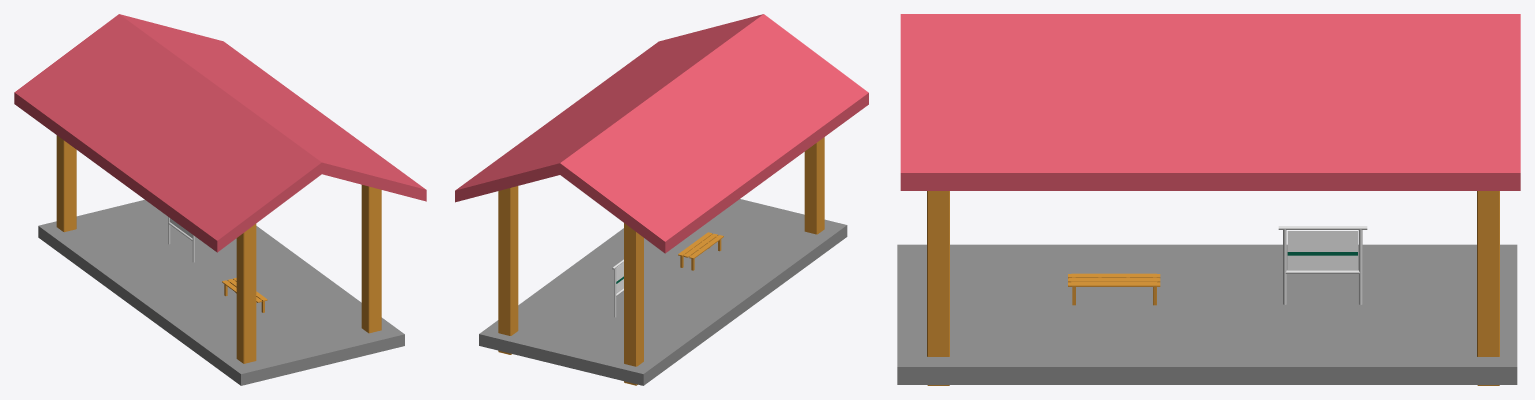
The model's file is station_1.fbx.
3 renders of one model, left to right at view 1: azimuth 30°, elevation 25°; view 2: azimuth 150°, elevation 25°; view 3: azimuth 270°, elevation 25°, orthographic. The views are drawn at different scales.
Parts seen in each view (by area): view 1: yane, floor, pillar.003, pillar.002, pillar.001; view 2: yane, floor, pillar, pillar.001, pillar.002; view 3: yane, floor, pillar, pillar.003, kanban.
Boxes of the visible parts, left/top/right/bottom form: yane: left=14, top=14, right=426, bottom=252; floor: left=38, top=199, right=404, bottom=385; pillar.003: left=361, top=185, right=381, bottom=333; pillar.002: left=236, top=224, right=256, bottom=363; pillar.001: left=56, top=135, right=76, bottom=232; yane: left=455, top=14, right=868, bottom=253; floor: left=479, top=199, right=847, bottom=385; pillar: left=498, top=186, right=518, bottom=354; pillar.001: left=624, top=223, right=643, bottom=385; pillar.002: left=804, top=137, right=824, bottom=234; yane: left=900, top=14, right=1520, bottom=190; floor: left=897, top=244, right=1517, bottom=384; pillar: left=1477, top=191, right=1499, bottom=385; pillar.003: left=927, top=191, right=949, bottom=385; kanban: left=1287, top=230, right=1357, bottom=269.
Size of the model in its own units: 3.54 by 3.4 by 5.98.
